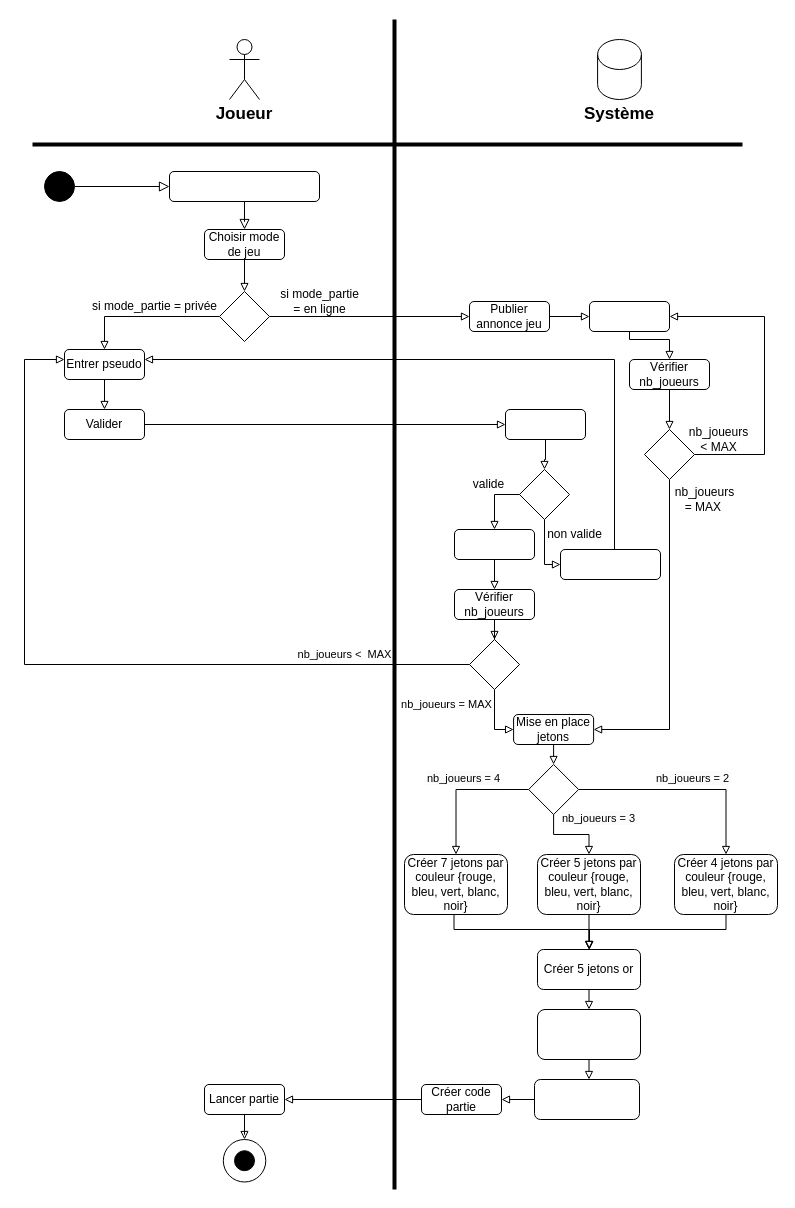
The diagram is 795 pixels wide and 1208 high, and some of its shapes have lost their labels. Each missing label, with the centre of its shape:
Accueillir joueurs: (x=629, y=316)
Afficher message erreur: (x=610, y=564)
Ajouter joueur: (x=494, y=544)
Entrer nb_joueurs = MAX: (x=244, y=186)
Tirer les cartes pour chaque étage: (x=587, y=1099)
Tirer nb_joueurs+1 nobles: (x=588, y=1034)
Vérifier pseudo: (x=545, y=424)
